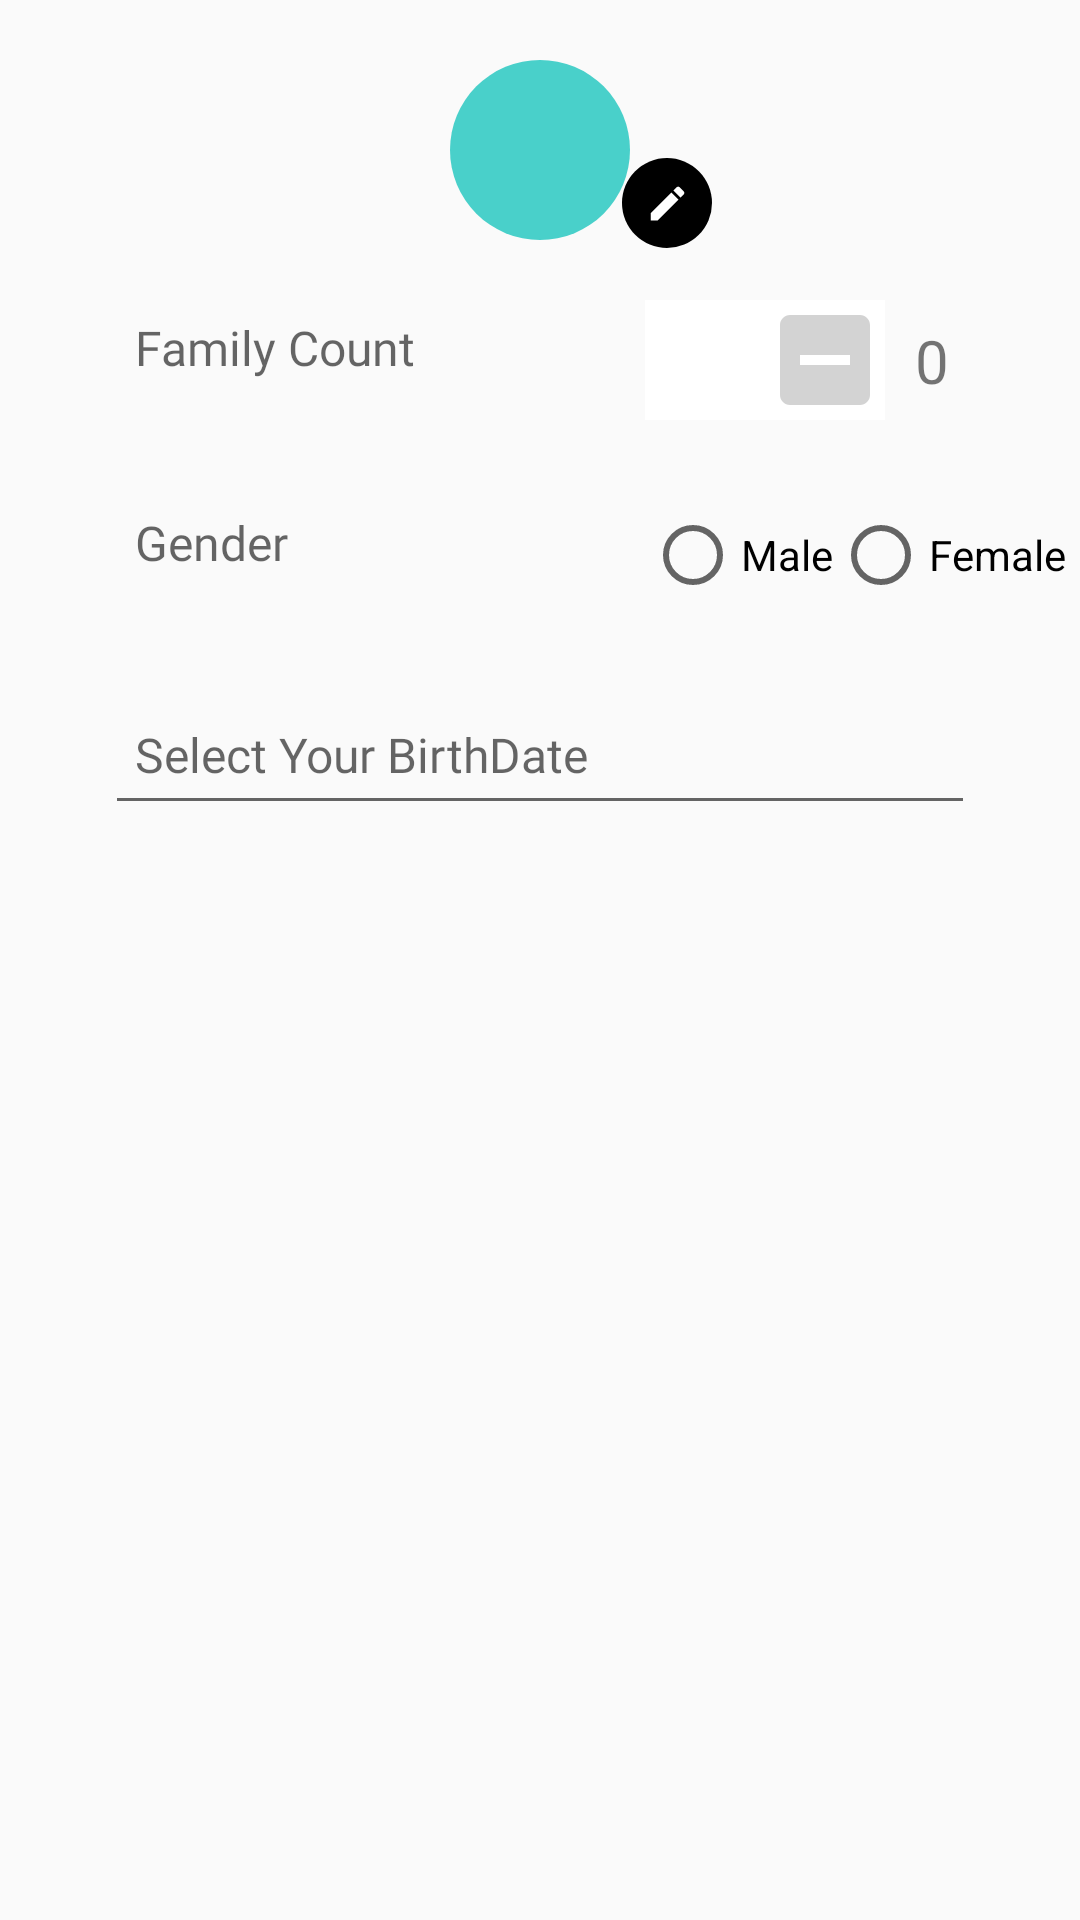

Icons on this 1080px×1920px Android screen, each with its box as (x1=x1, y1=y1, x2=x2, y2=y2):
edit profile picture: (x1=622, y1=158, x2=712, y2=248)
minus: (x1=780, y1=315, x2=870, y2=405)
